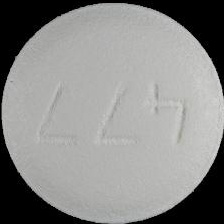58118-0360: (0, 0, 224, 224)
